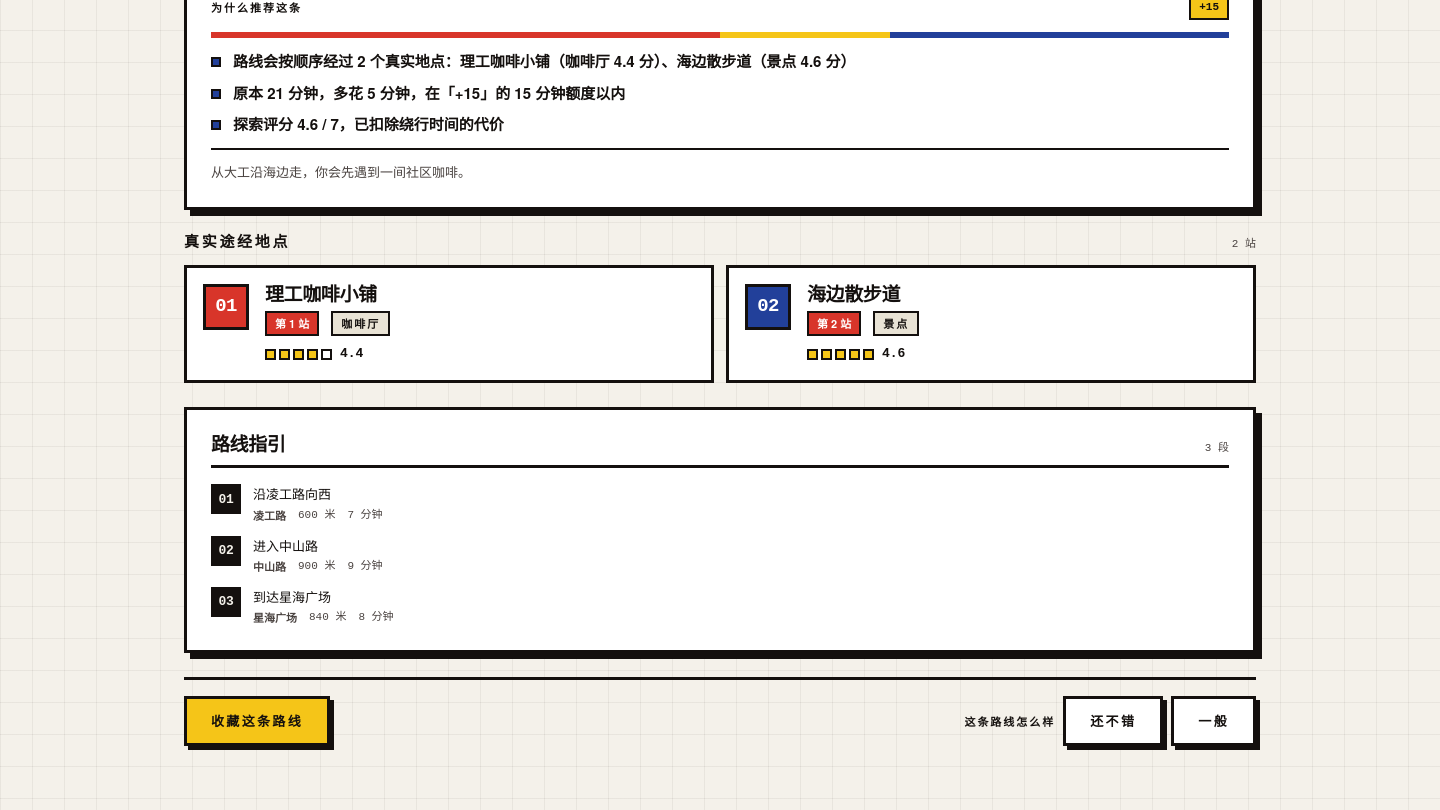
ResultView › saves the trip and reports success
The image size is (1440, 810).
(page scrolled)
Click the button with class "bh-btn--accent".
click(257, 721)  # box [184, 696, 330, 746]
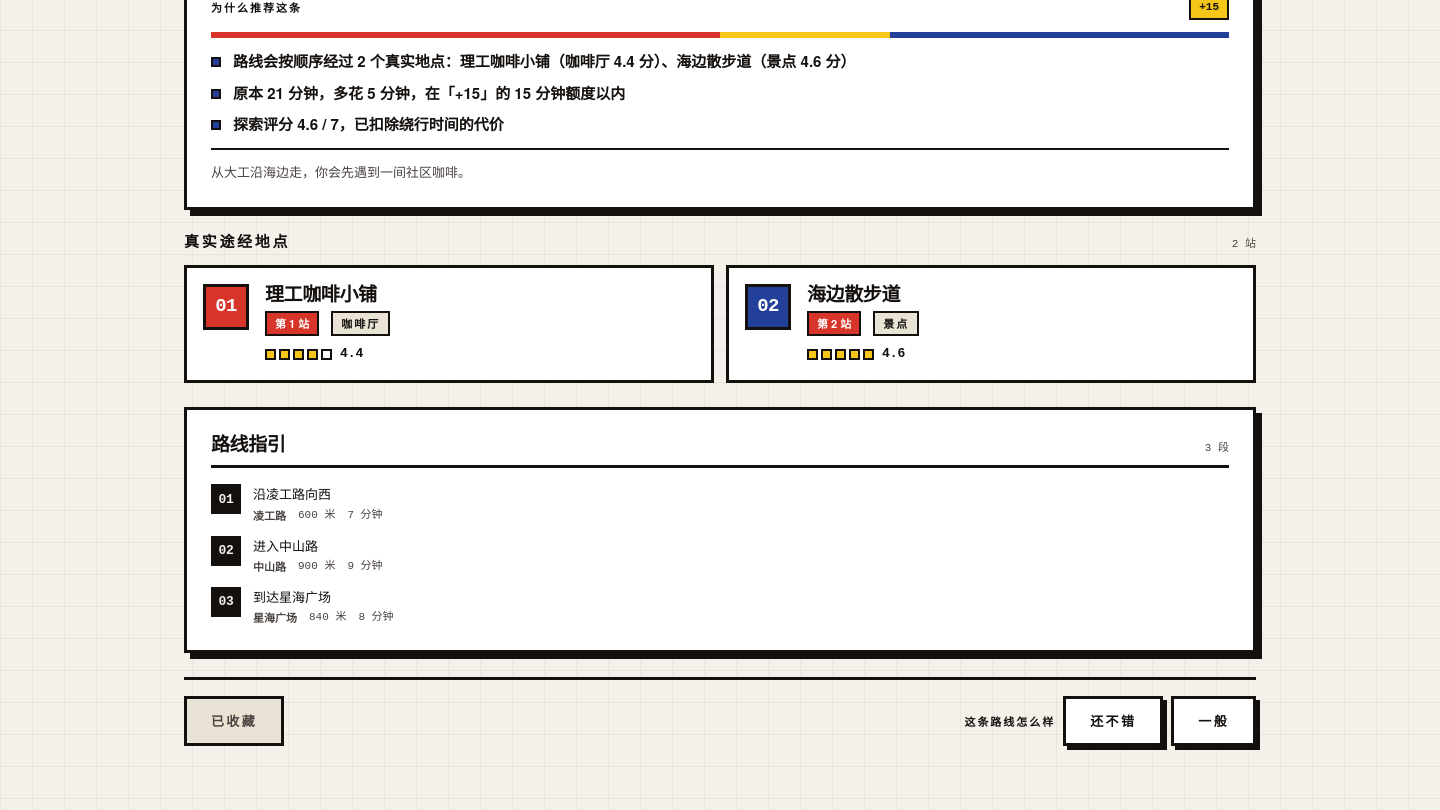
Now the text "已收藏" is shown, box [184, 696, 284, 746]
